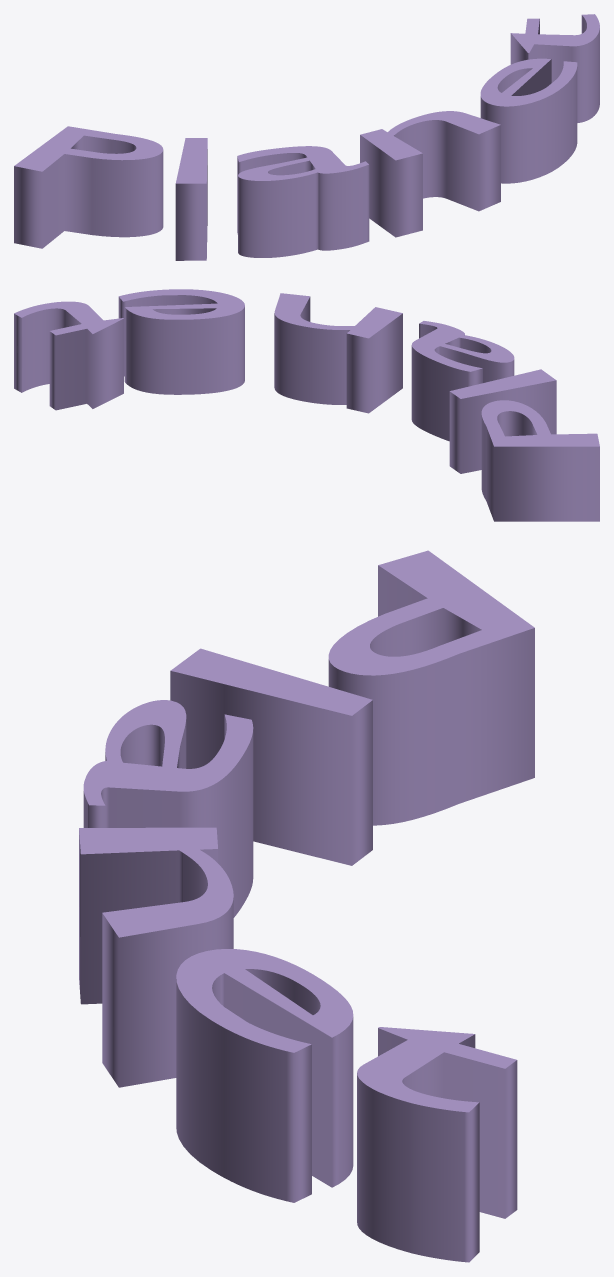
Rendered from Planet.dae.
The picture shows the model from 3 angles, top to bottom: view 1: azimuth 30°, elevation 25°; view 2: azimuth 150°, elevation 25°; view 3: azimuth 270°, elevation 25°; orthographic projection. The views are drawn at different scales.
Parts seen in each view (by area): view 1: Text; view 2: Text; view 3: Text.
Part boxes in pixels (x1,y1,x2,y2): Text: (14,14,599,260); Text: (14,289,599,521); Text: (79,550,534,1262).
Size of the model in its own units: 4.34 by 1.49 by 0.54.
